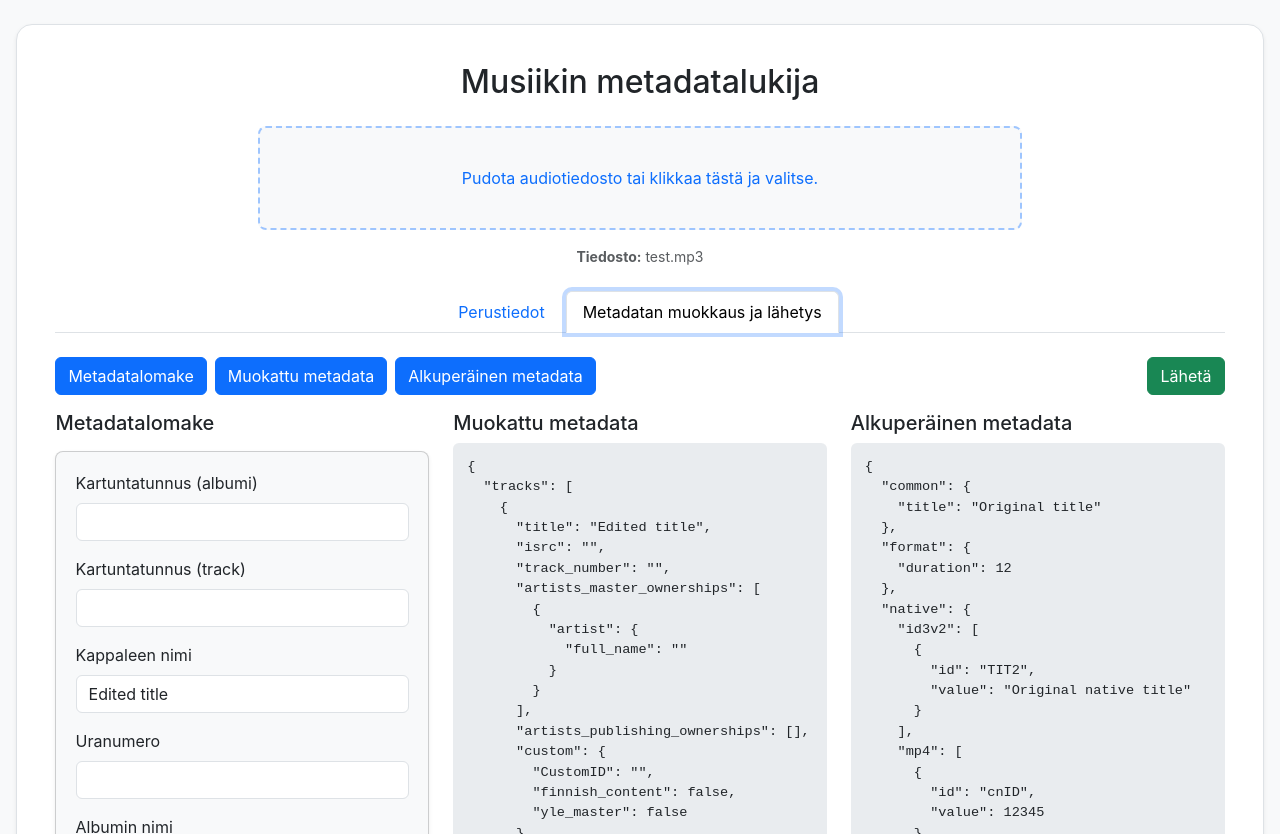
Test case: shows editable, mapped and original metadata side by side and keeps original unchanged
Earlier steps of the test are not shown.
Expected: the element "Muokattu metadata" shows "\"title\": \"Edited title\"", x1=467 y1=520 x2=712 y2=535
Expected: the element "Alkuperäinen metadata" shows "\"title\": \"Original title\"", x1=865 y1=500 x2=1102 y2=515
Click the button "Muokattu metadata" at (301, 376), box x1=215 y1=357 x2=387 y2=395
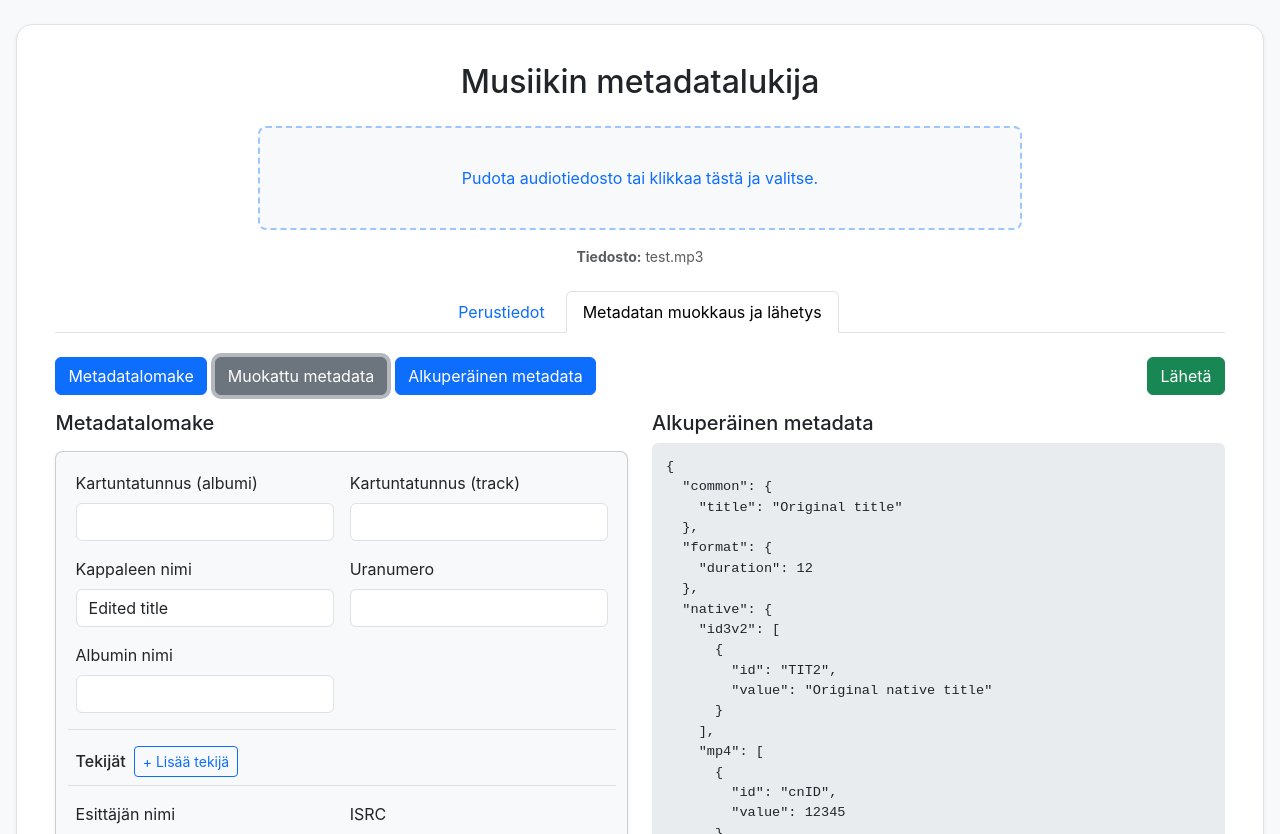
Result: the button "Muokattu metadata" is not pressed at x1=215 y1=357 x2=387 y2=395
Result: the button "Muokattu metadata" has class "btn-outline-secondary" at x1=215 y1=357 x2=387 y2=395
Result: the button "Muokattu metadata" does not have class "btn-primary" at x1=215 y1=357 x2=387 y2=395
Replace the text in the field labelled "Kappaleen nimi" with "Changed while hidden" at (205, 608), box x1=76 y1=589 x2=334 y2=627
Click the button "Alkuperäinen metadata" at (496, 376), box x1=395 y1=357 x2=596 y2=395
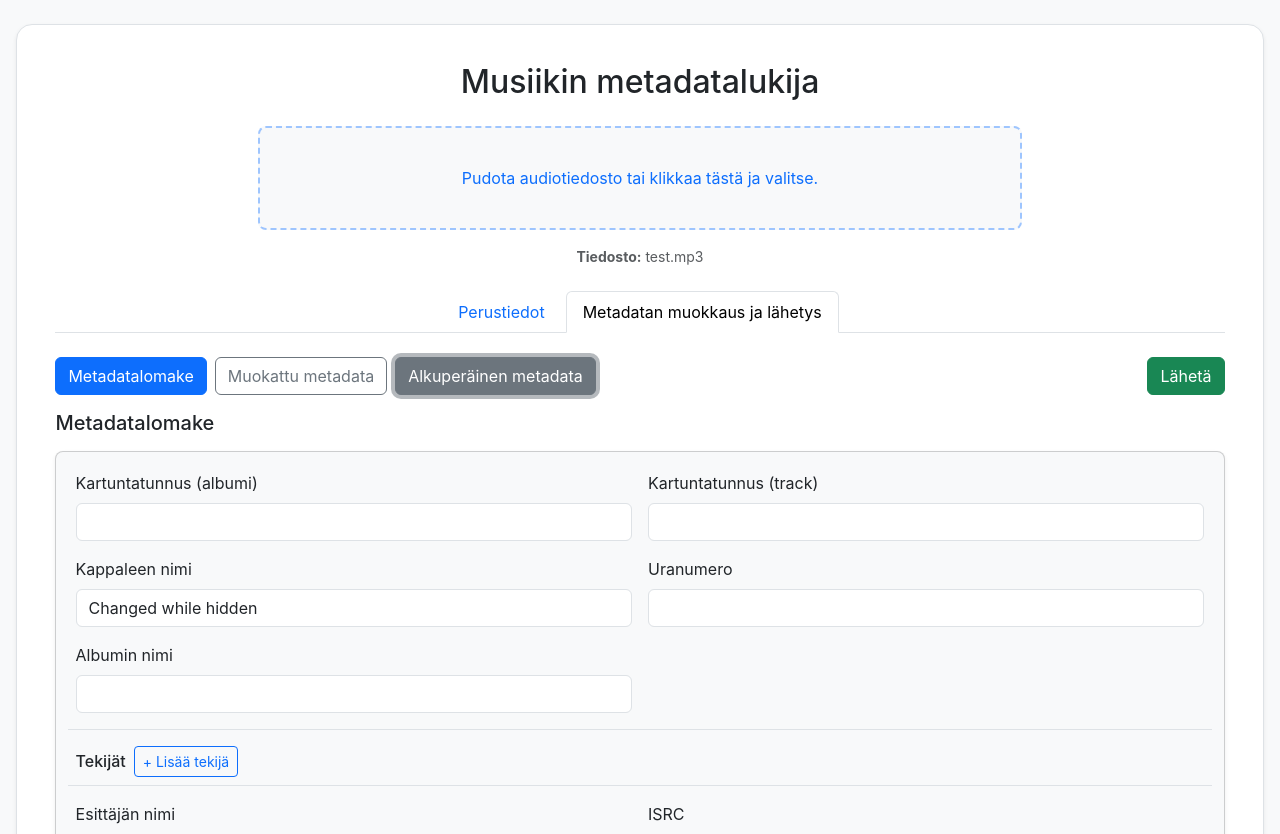
Result: the button "Alkuperäinen metadata" is not pressed at x1=395 y1=357 x2=596 y2=395
Result: the button "Alkuperäinen metadata" has class "btn-outline-secondary" at x1=395 y1=357 x2=596 y2=395
Click the button "Muokattu metadata" at (301, 376), box x1=215 y1=357 x2=387 y2=395
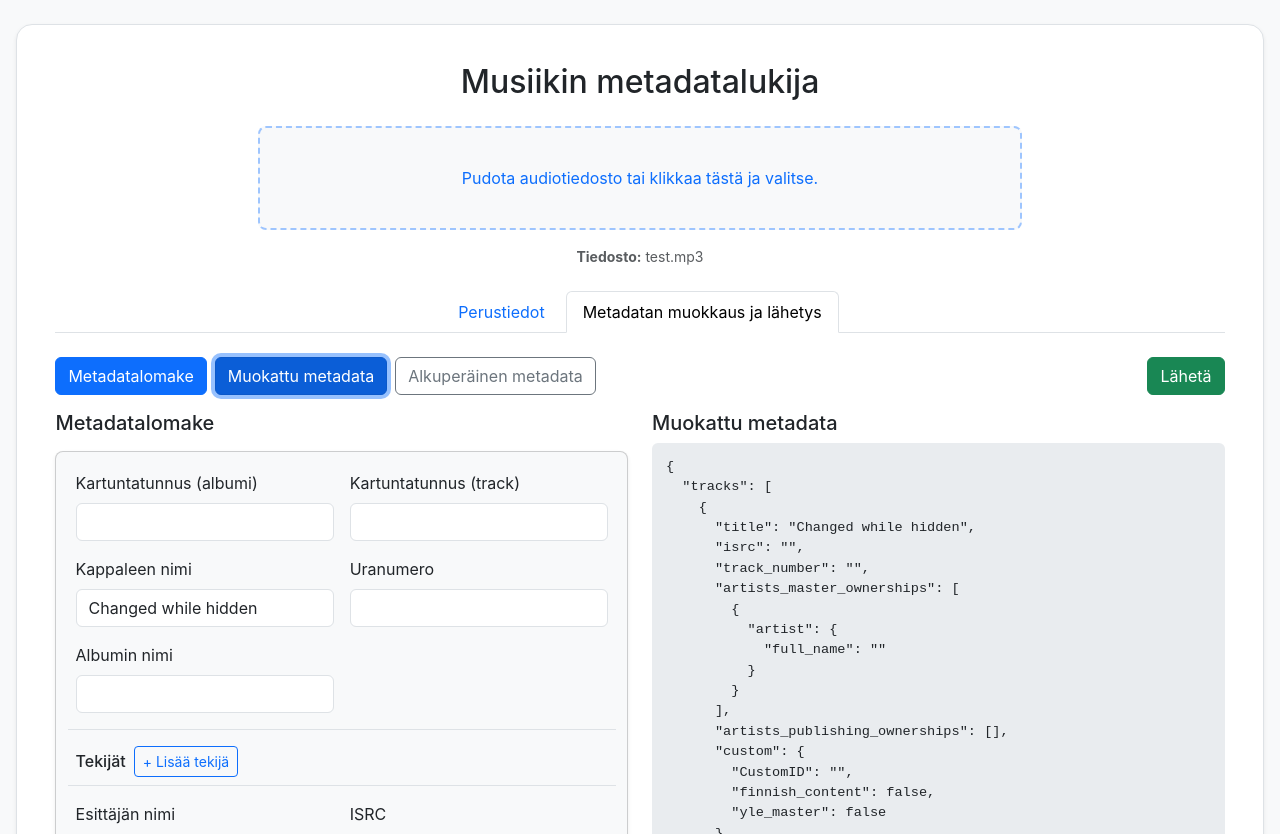
Result: the element "Muokattu metadata" shows "\"title\": \"Changed while hidden\"" at x1=666 y1=520 x2=976 y2=535
Click the tab "Perustiedot" at (501, 312), box x1=441 y1=291 x2=562 y2=333
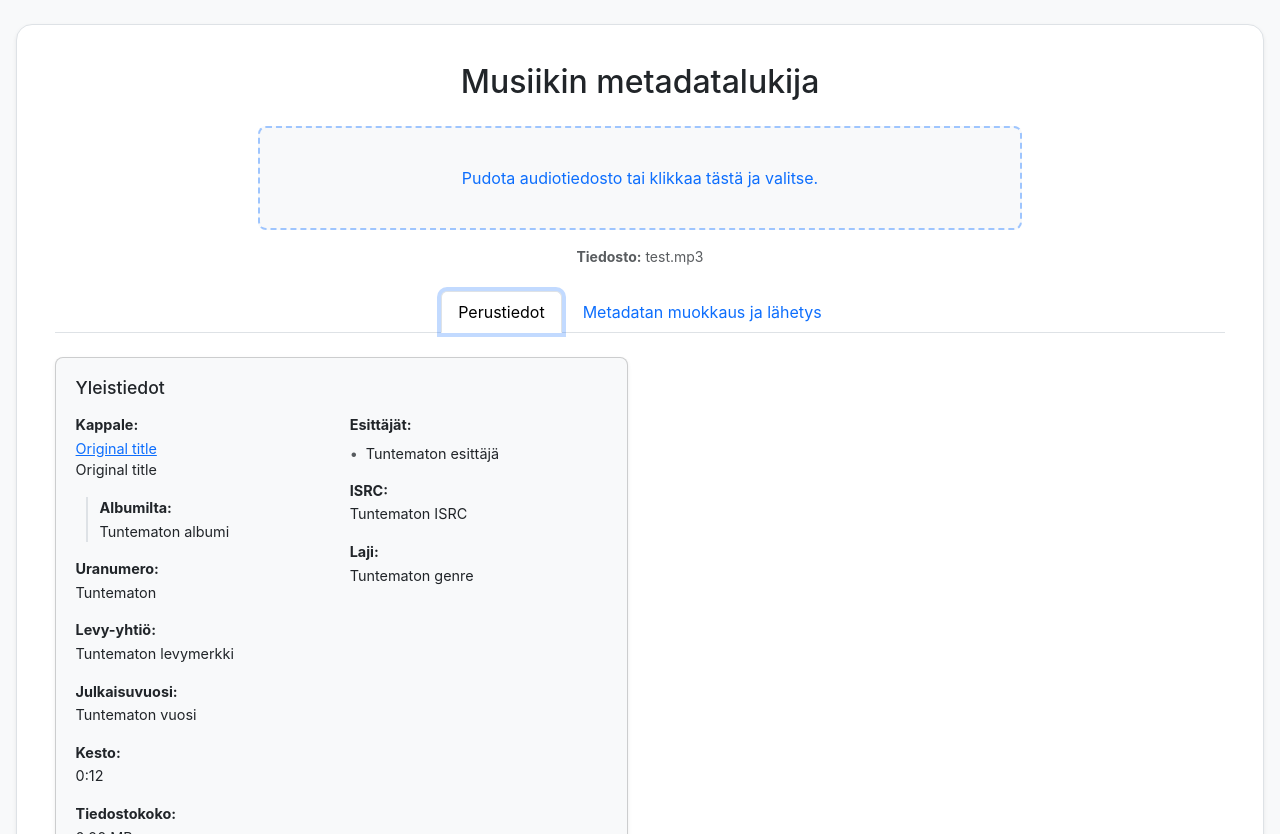
Click the tab "Metadatan muokkaus ja lähetys" at (702, 312), box x1=566 y1=291 x2=839 y2=333
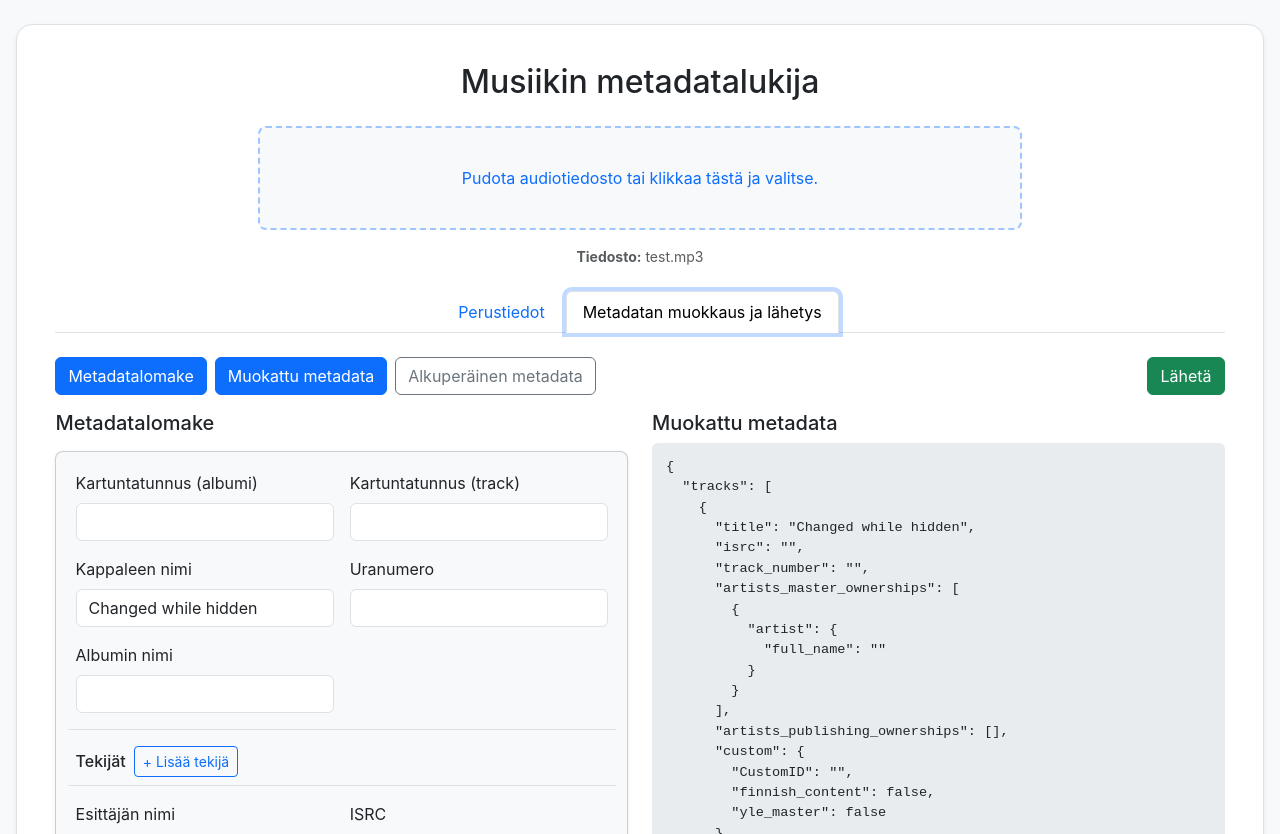
Result: the button "Alkuperäinen metadata" is not pressed
Click the button "Alkuperäinen metadata" at (496, 376), box x1=395 y1=357 x2=596 y2=395
(page scrolled)
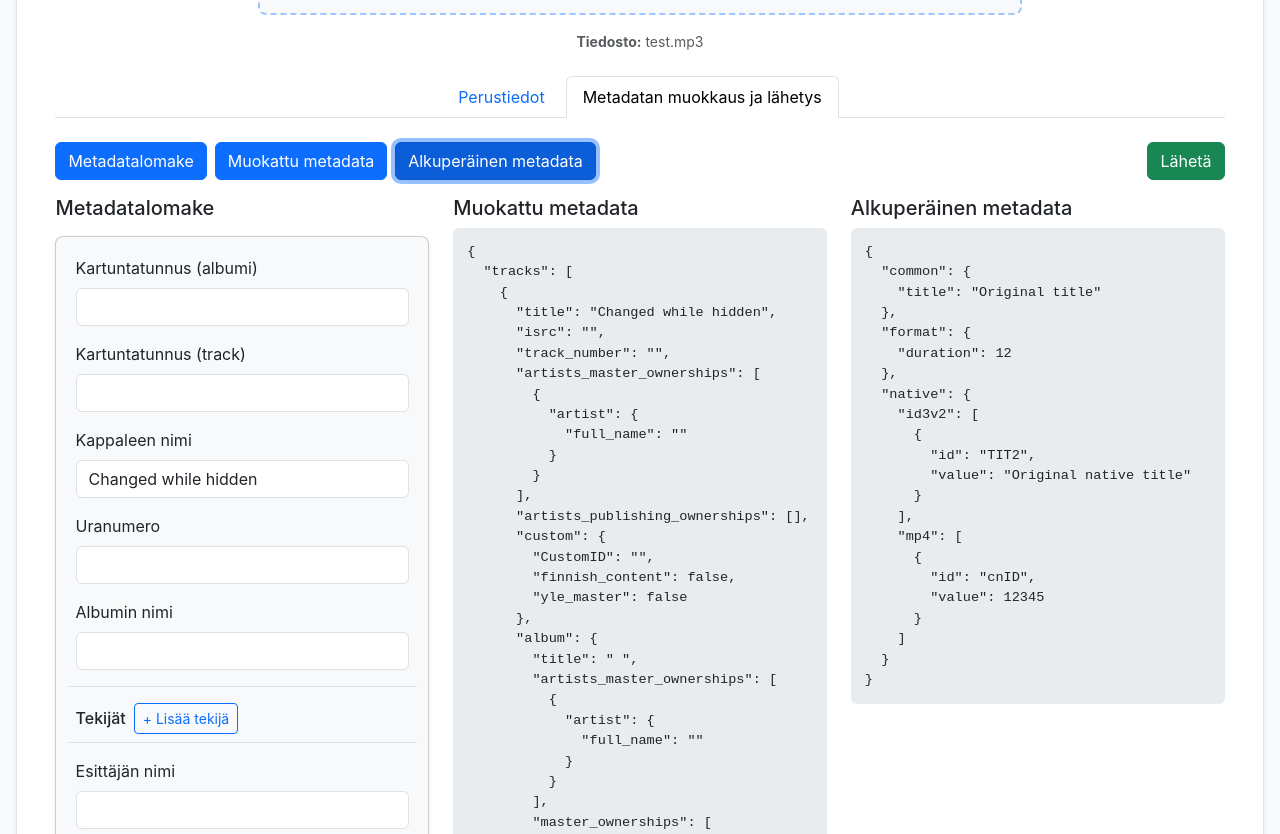
Result: the element "Alkuperäinen metadata" shows "\"title\": \"Original title\"" at x1=865 y1=285 x2=1102 y2=300
